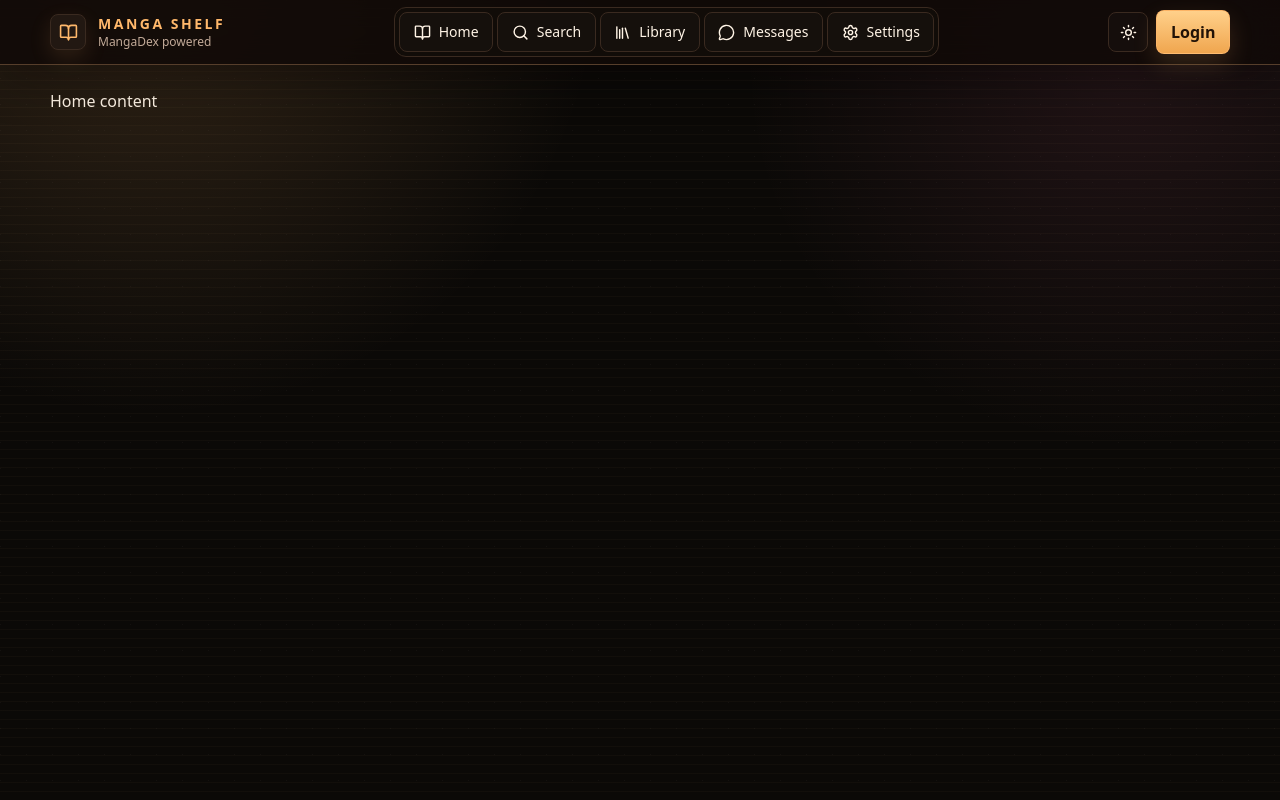
it: AppLayout theme toggle › renders a header toggle that switches the document theme
Click the button named "Switch to light mode" at (1128, 32), box [1108, 12, 1148, 52]
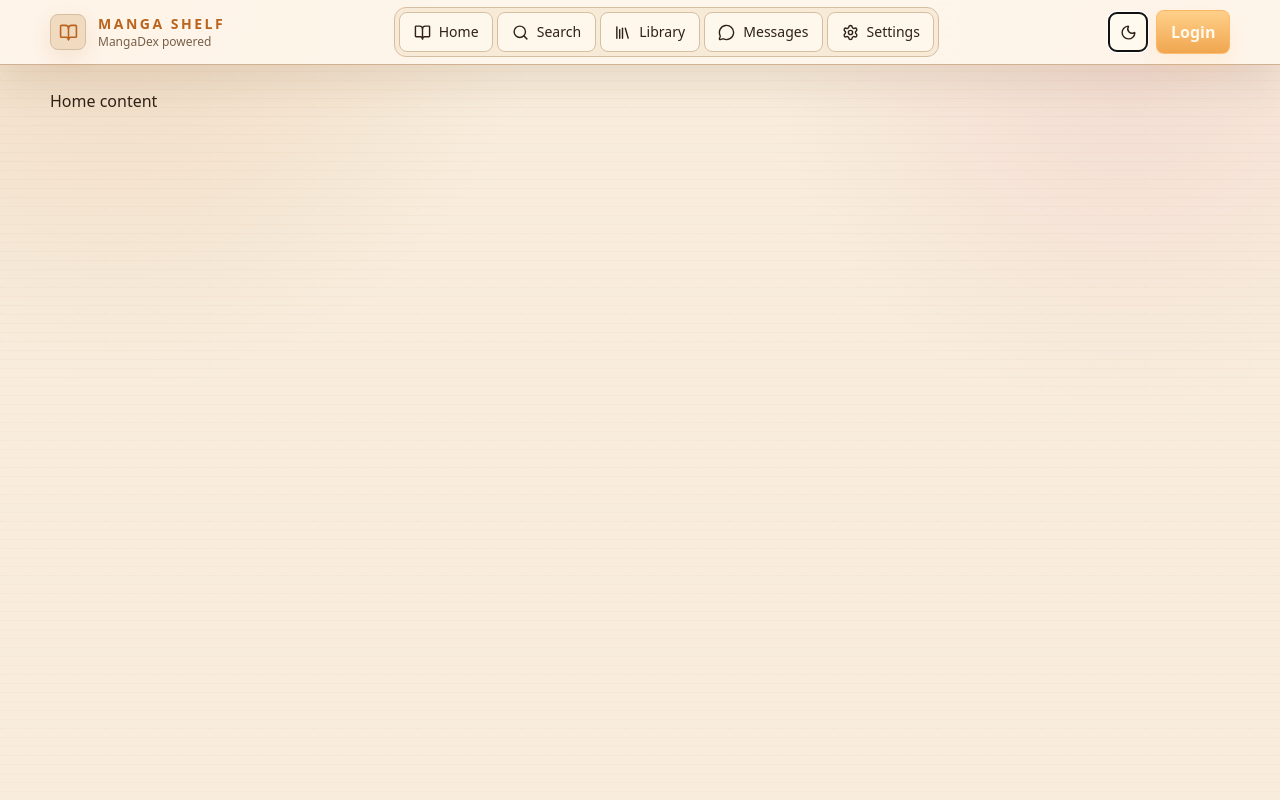
Expected: the button named "Switch to dark mode" is shown, [1108, 12, 1148, 52]
